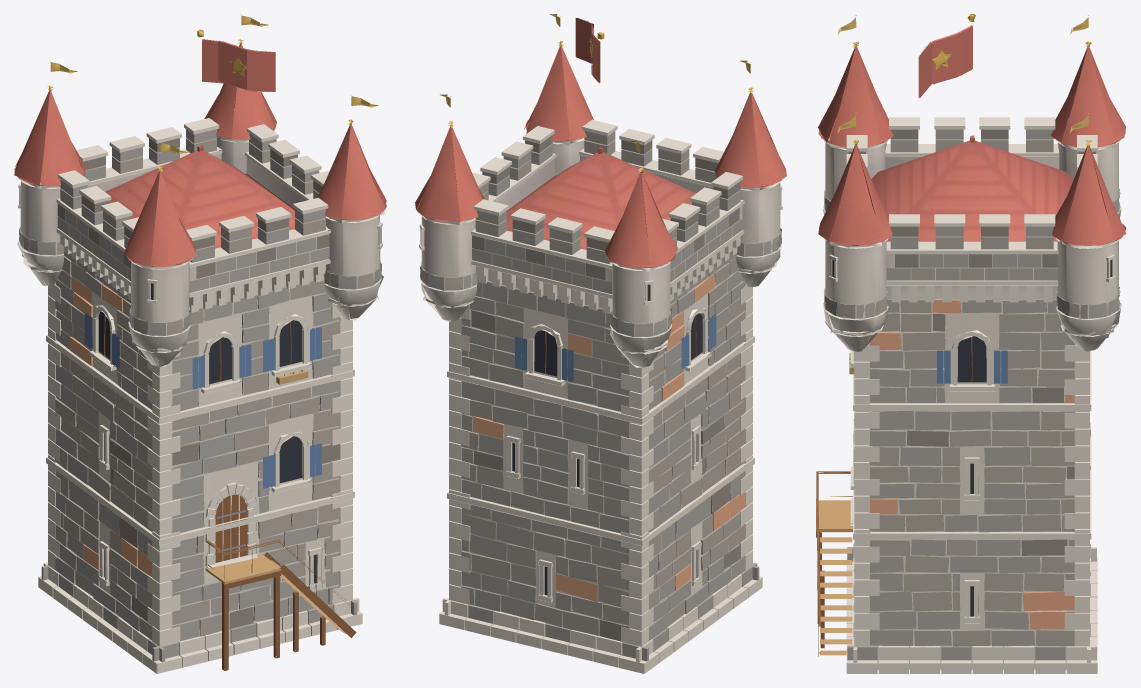
File: torre_homenaje.glb
3 renders of one model, left to right at view 1: azimuth 30°, elevation 25°; view 2: azimuth 150°, elevation 25°; view 3: azimuth 270°, elevation 25°, orthographic. The views are drawn at different scales.
Visible parts, largest first — view 1: keep_body; view 2: keep_body; view 3: keep_body.
Boxes of the visible parts, x1=… form: keep_body: x1=14, y1=14, x2=386, y2=673; keep_body: x1=415, y1=14, x2=786, y2=673; keep_body: x1=816, y1=14, x2=1126, y2=673.
Size of the model in its own units: 9.35 by 20.26 by 9.42.
16 materials, 1 textured.
